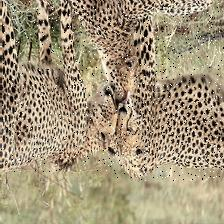Cheetha: (1, 0, 118, 172), (115, 20, 224, 180), (71, 0, 218, 100)
